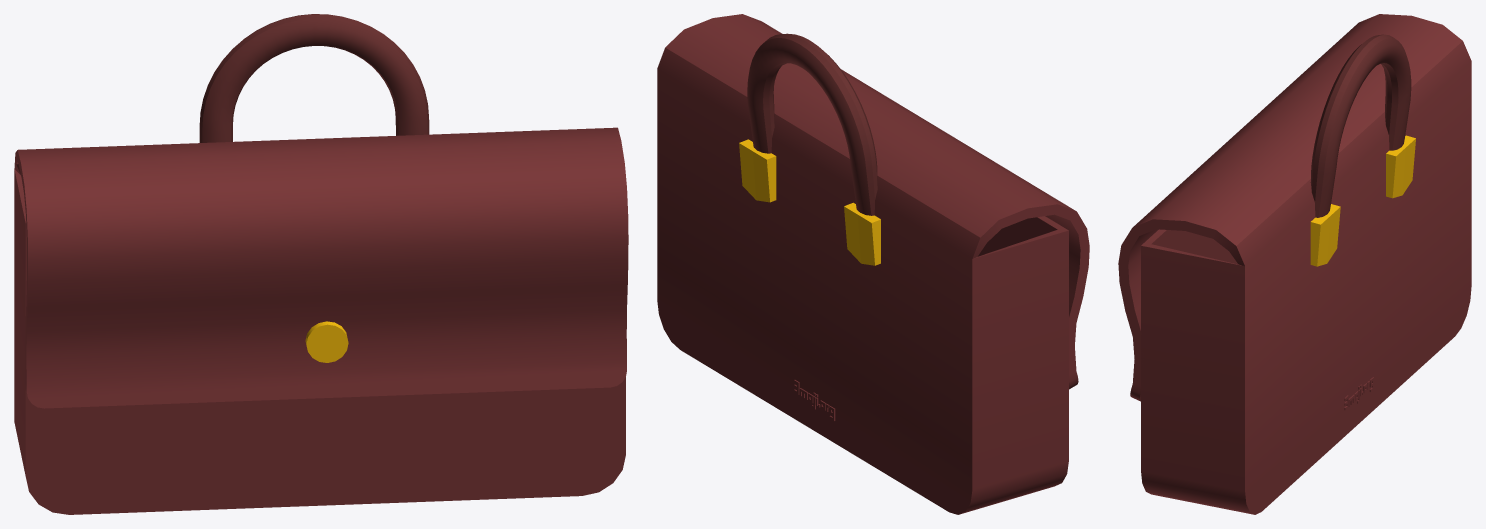
Rendered from briefcase.gltf.
3 views of the same model, side by side, from view 1: azimuth 30°, elevation 25°; view 2: azimuth 150°, elevation 25°; view 3: azimuth 270°, elevation 25° (orthographic). The views are drawn at different scales.
Parts seen in each view (by area): view 1: Cube.6128; view 2: Cube.6128; view 3: Cube.6128.
Part boxes in pixels (x1=…): Cube.6128: x1=14, y1=14, x2=628, y2=514; Cube.6128: x1=657, y1=14, x2=1089, y2=514; Cube.6128: x1=1118, y1=14, x2=1471, y2=514.
Size of the model in its own units: 2.11 by 1.64 by 1.37.
Materials: 1 (1 with a texture image).
